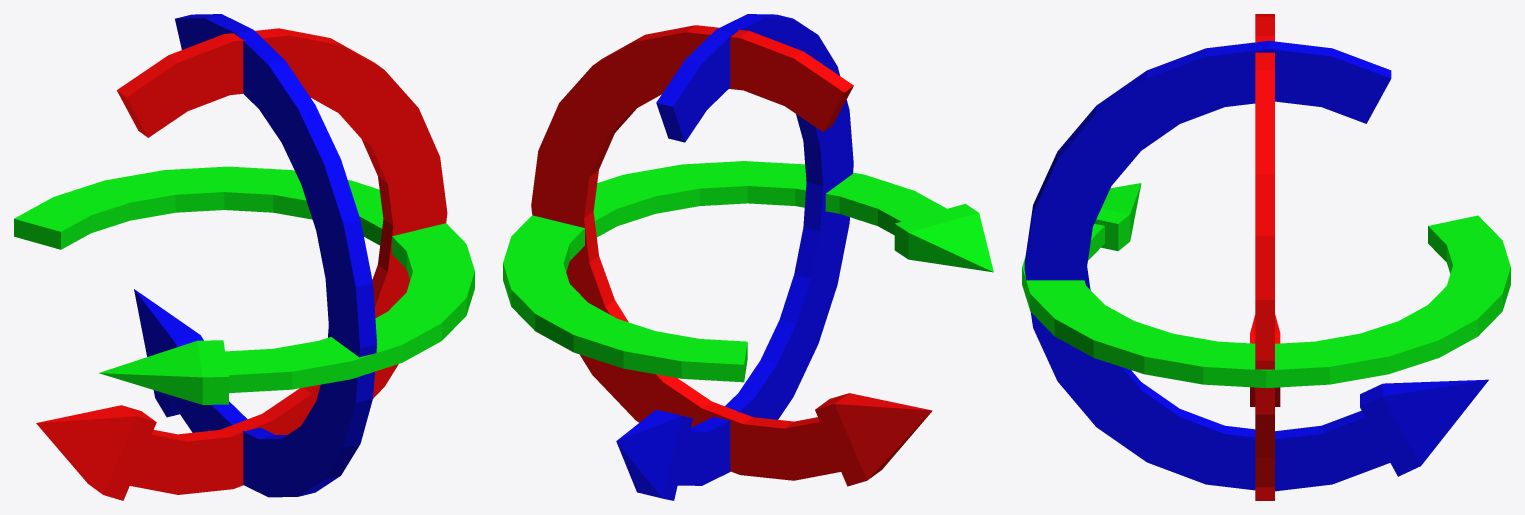
The model's file is RotateIcon.fbx.
3 views of the same model, side by side, from view 1: azimuth 30°, elevation 25°; view 2: azimuth 150°, elevation 25°; view 3: azimuth 270°, elevation 25° (orthographic). The views are drawn at different scales.
Visible parts, largest first — view 1: Cube; view 2: Cube; view 3: Cube.
Boxes of the visible parts, x1,y1,x2,y2 form: Cube: [14, 14, 474, 500]; Cube: [503, 14, 993, 500]; Cube: [1022, 14, 1510, 500].
Size of the model in its own units: 39.34 by 41.39 by 41.39.
1 material, 1 textured.
